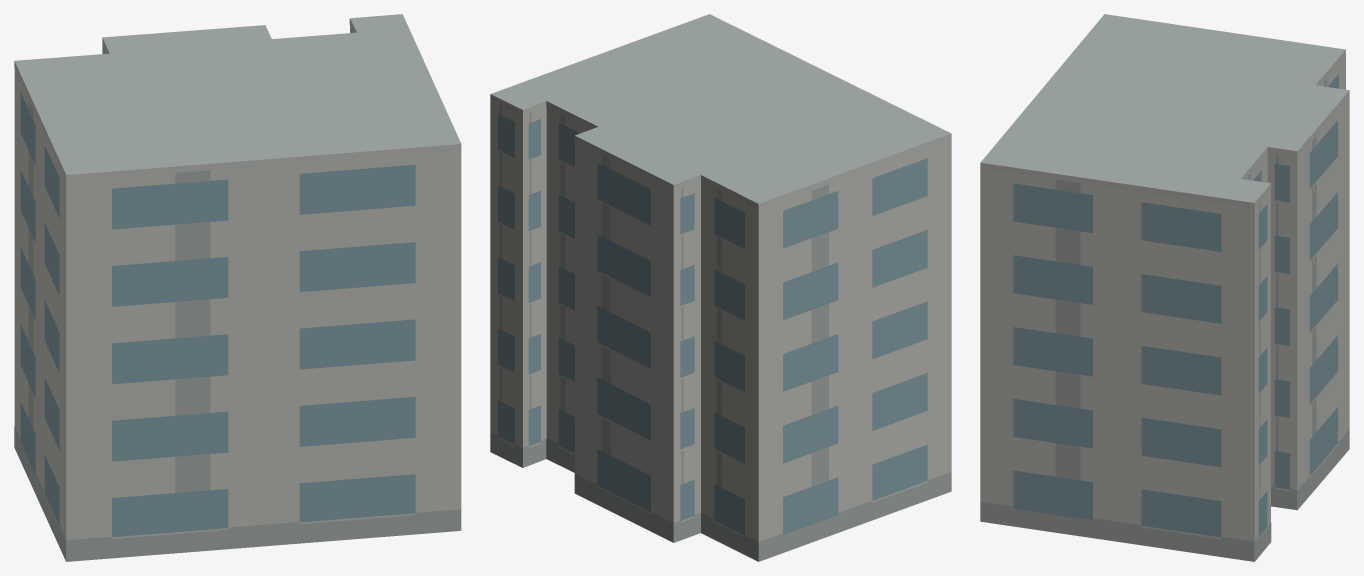
File: survey-upis-33015739.glb
The picture shows the model from 3 angles, left to right: view 1: azimuth 30°, elevation 25°; view 2: azimuth 150°, elevation 25°; view 3: azimuth 270°, elevation 25°; orthographic projection. The views are drawn at different scales.
Visible parts, largest first — view 1: survey-upis-33015739.tmp; view 2: survey-upis-33015739.tmp; view 3: survey-upis-33015739.tmp.
Part boxes in pixels (x1,y1,x2,y2): survey-upis-33015739.tmp: [14, 14, 461, 561]; survey-upis-33015739.tmp: [490, 14, 951, 561]; survey-upis-33015739.tmp: [980, 14, 1349, 561].
Bounding box in the file's own units: 16.33 × 14.45 × 13.48.
